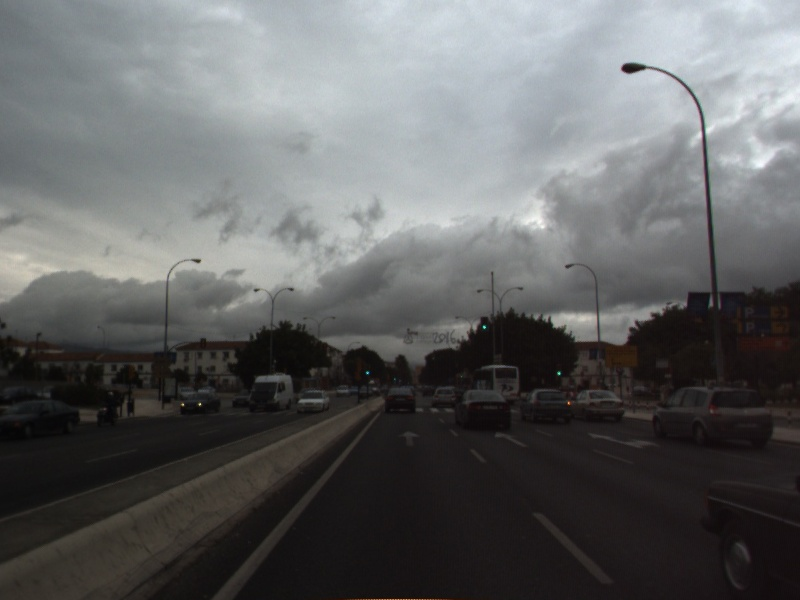STRAIGHT: (492, 429, 531, 449), (396, 428, 423, 449)
STRAIGHT_RIGHT: (585, 430, 664, 451)
